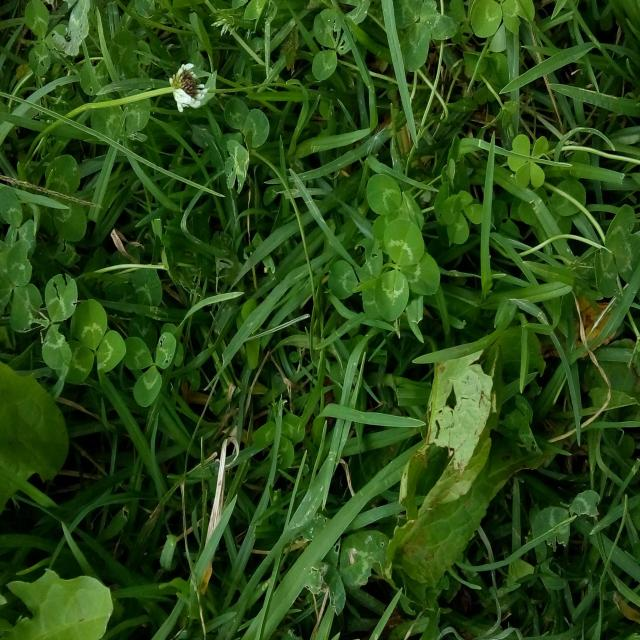Four Leaf Clover: (441, 190, 484, 245)
